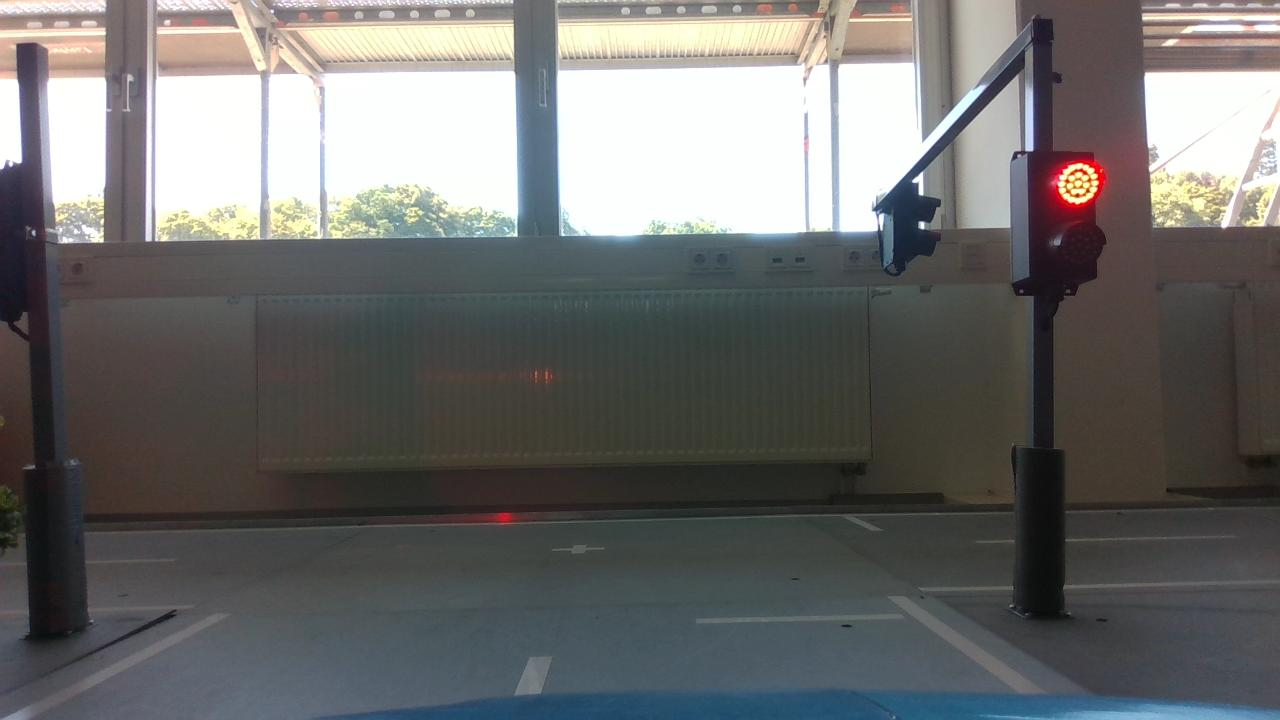traffic_light_red: (1001, 143, 1112, 302)
